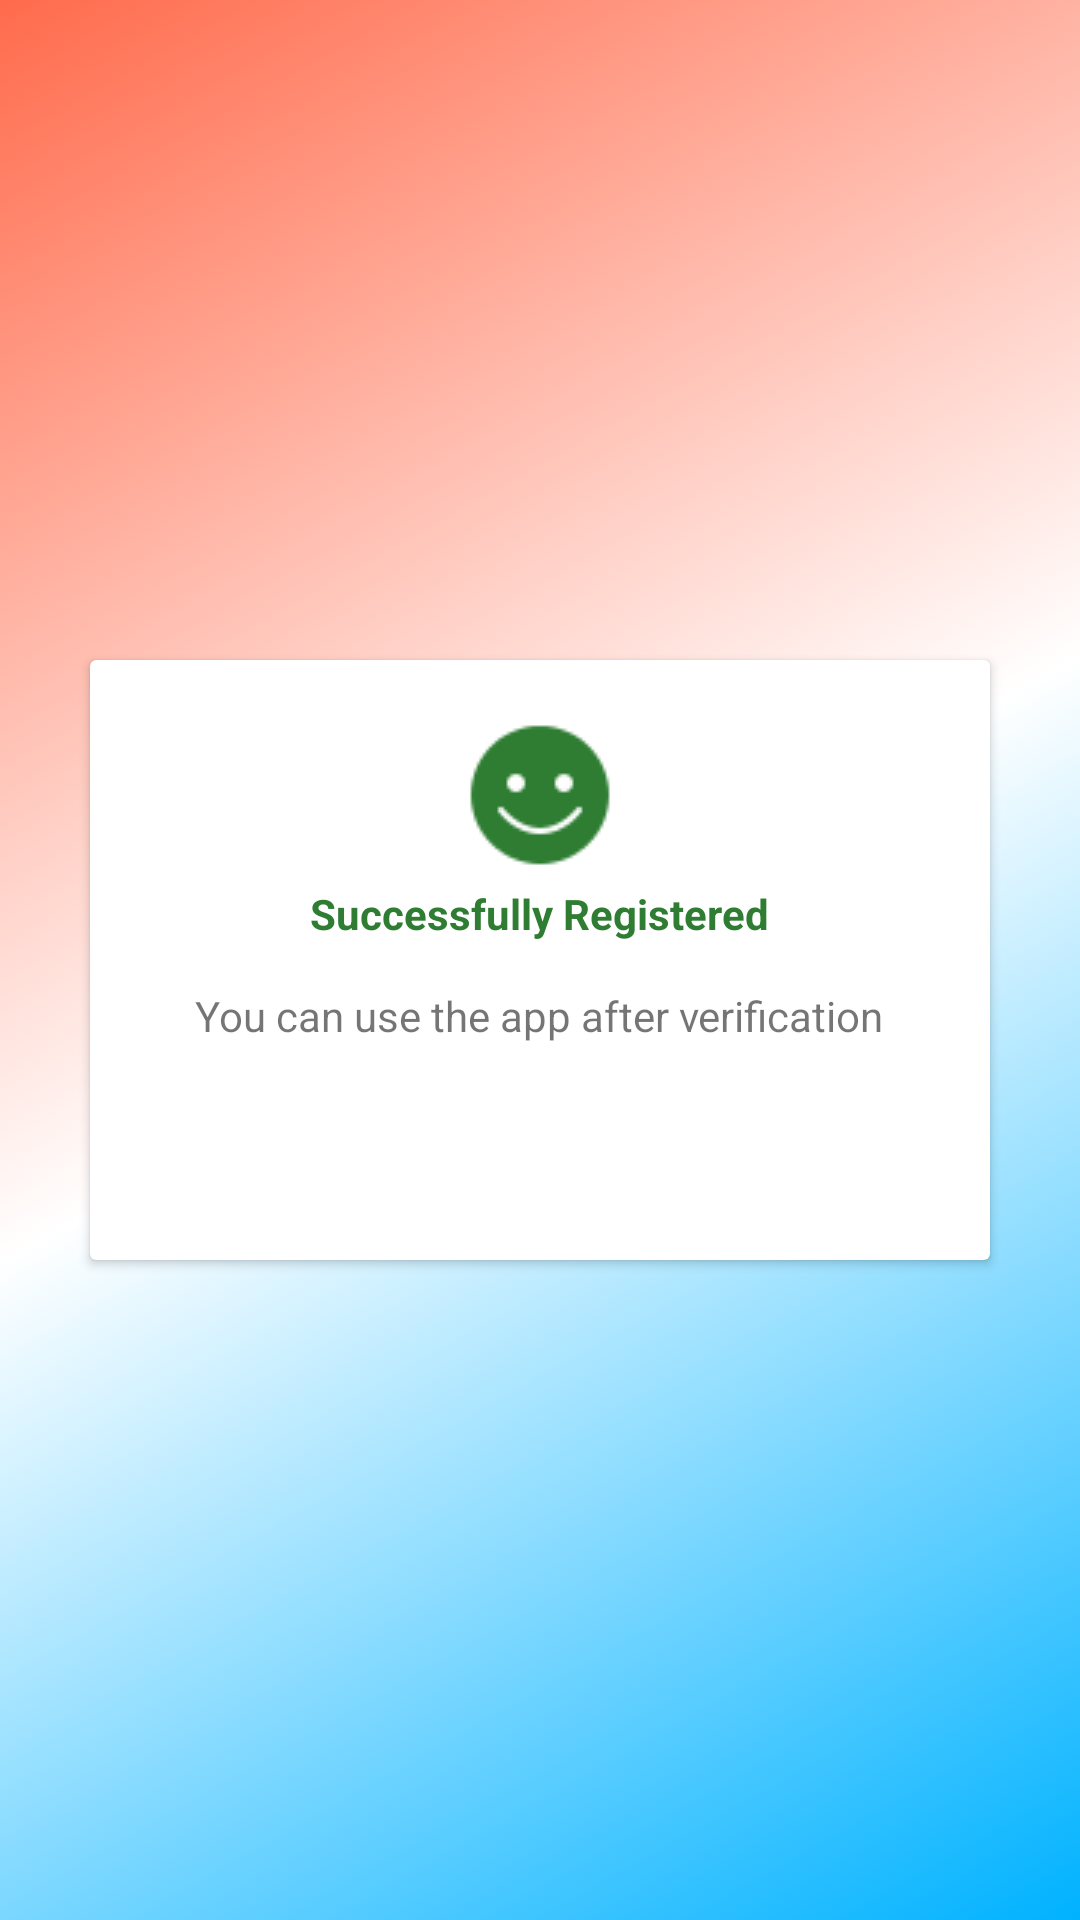

Where icons sit on this 1080px×1920px app screen, as (x1, y1, x2, y2):
smile: (470, 725, 610, 865)
